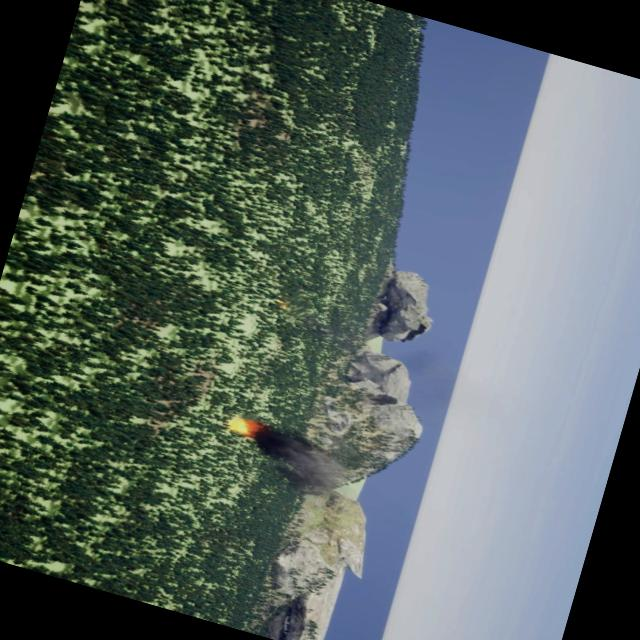fire: (230, 414, 265, 442)
smoke: (253, 426, 350, 494)
